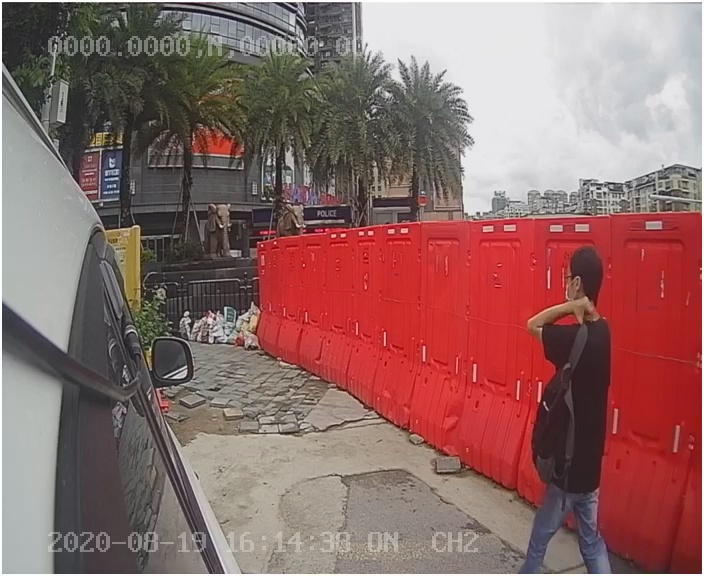person: (509, 242, 640, 566)
